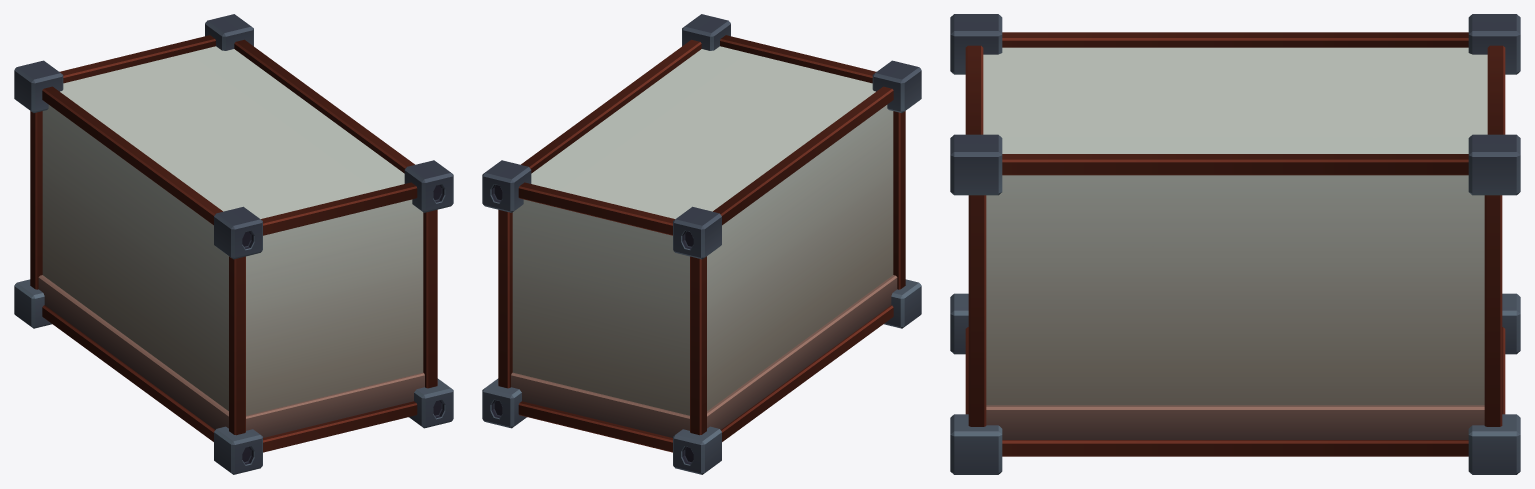
File: sp_build_wall_part2d.fbx
3 views of the same model, side by side, from view 1: azimuth 30°, elevation 25°; view 2: azimuth 150°, elevation 25°; view 3: azimuth 270°, elevation 25° (orthographic). The views are drawn at different scales.
Parts seen in each view (by area): view 1: wall_part2d; view 2: wall_part2d; view 3: wall_part2d.
Boxes of the visible parts, x1,y1,x2,y2 form: wall_part2d: [14, 14, 453, 474]; wall_part2d: [482, 14, 921, 474]; wall_part2d: [950, 14, 1520, 474].
Bounding box in the file's own units: 292 × 312 × 499.
